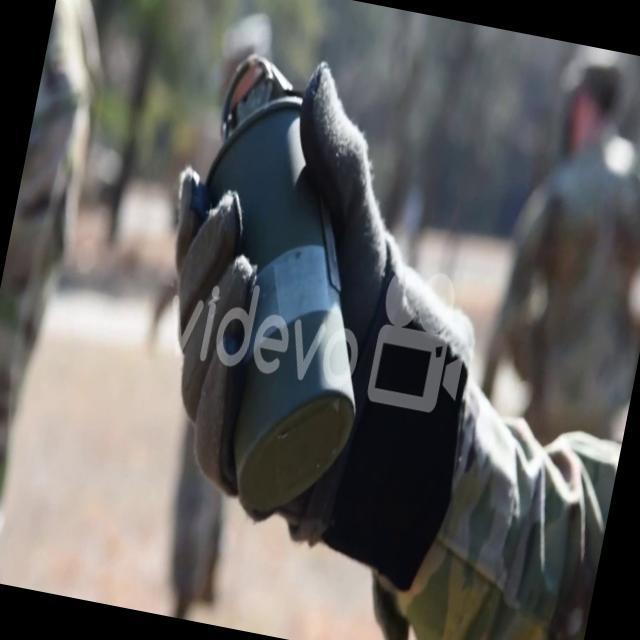grenade: (141, 39, 422, 532)
